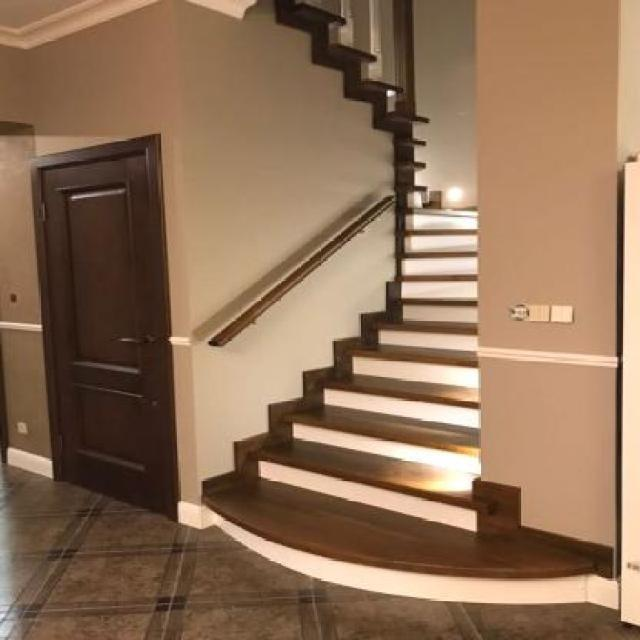stair: (132, 39, 528, 556)
